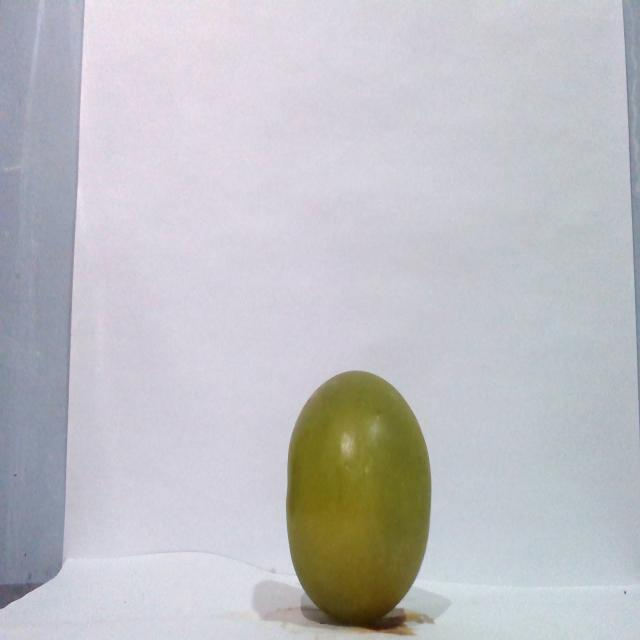Red: (284, 368, 432, 625)
